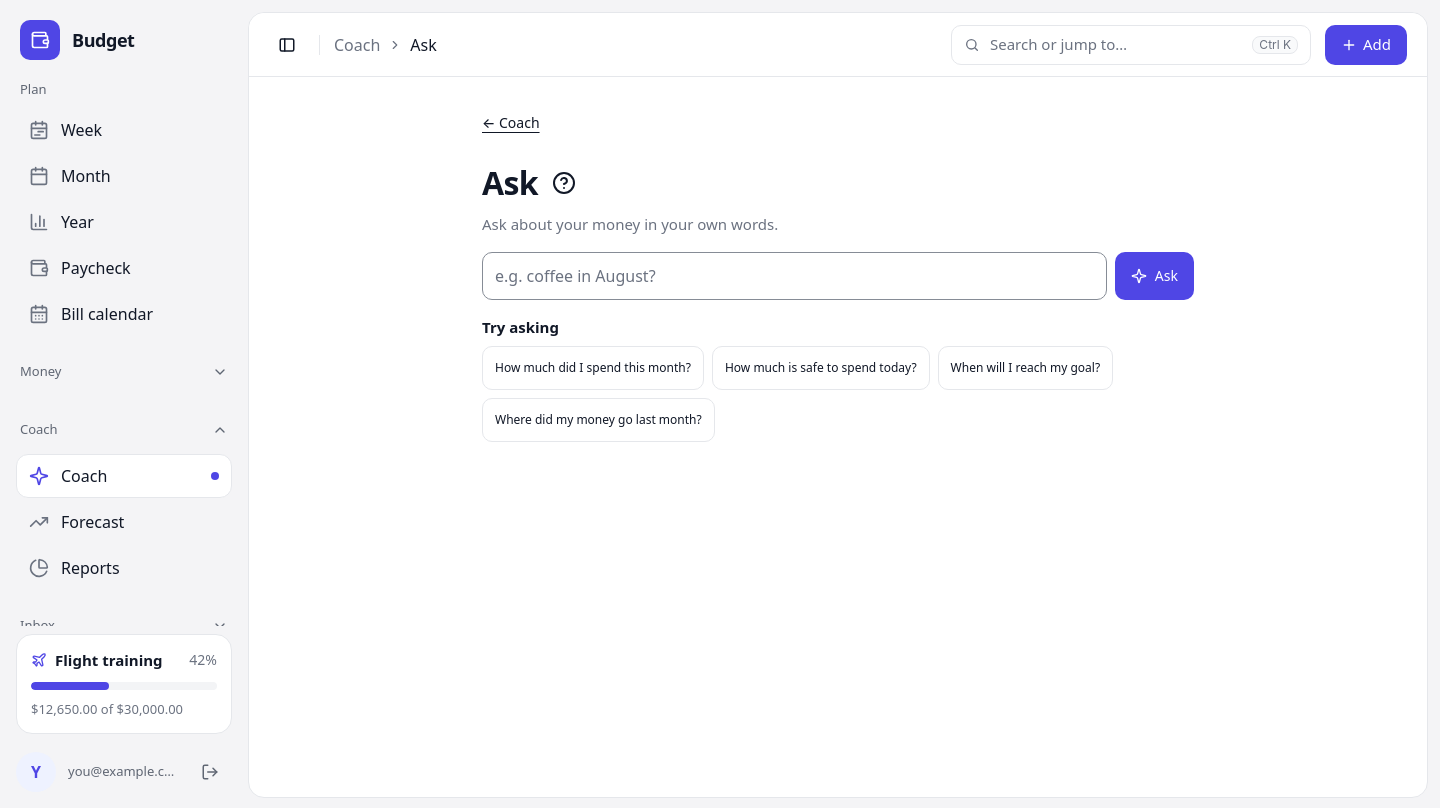
Scenario: the last five questions › still answers when the browser refuses to keep them
This screenshot has width=1440, height=808.
In the field named "Your question": (794, 276) [482,252,1107,300], type "How much did I spend on dining out in August?"
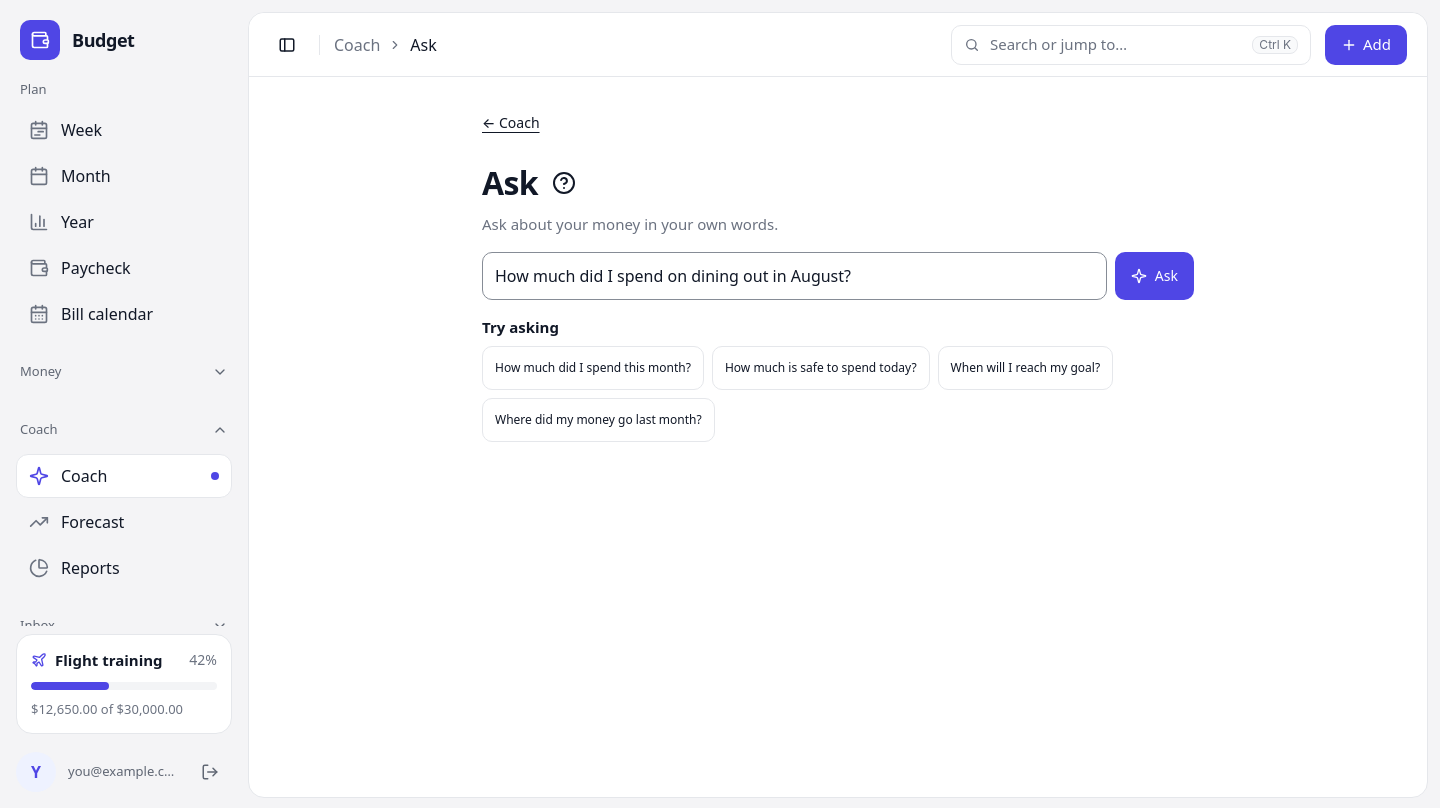
Click the button "Ask": (1154, 276) [1115,252,1194,300]
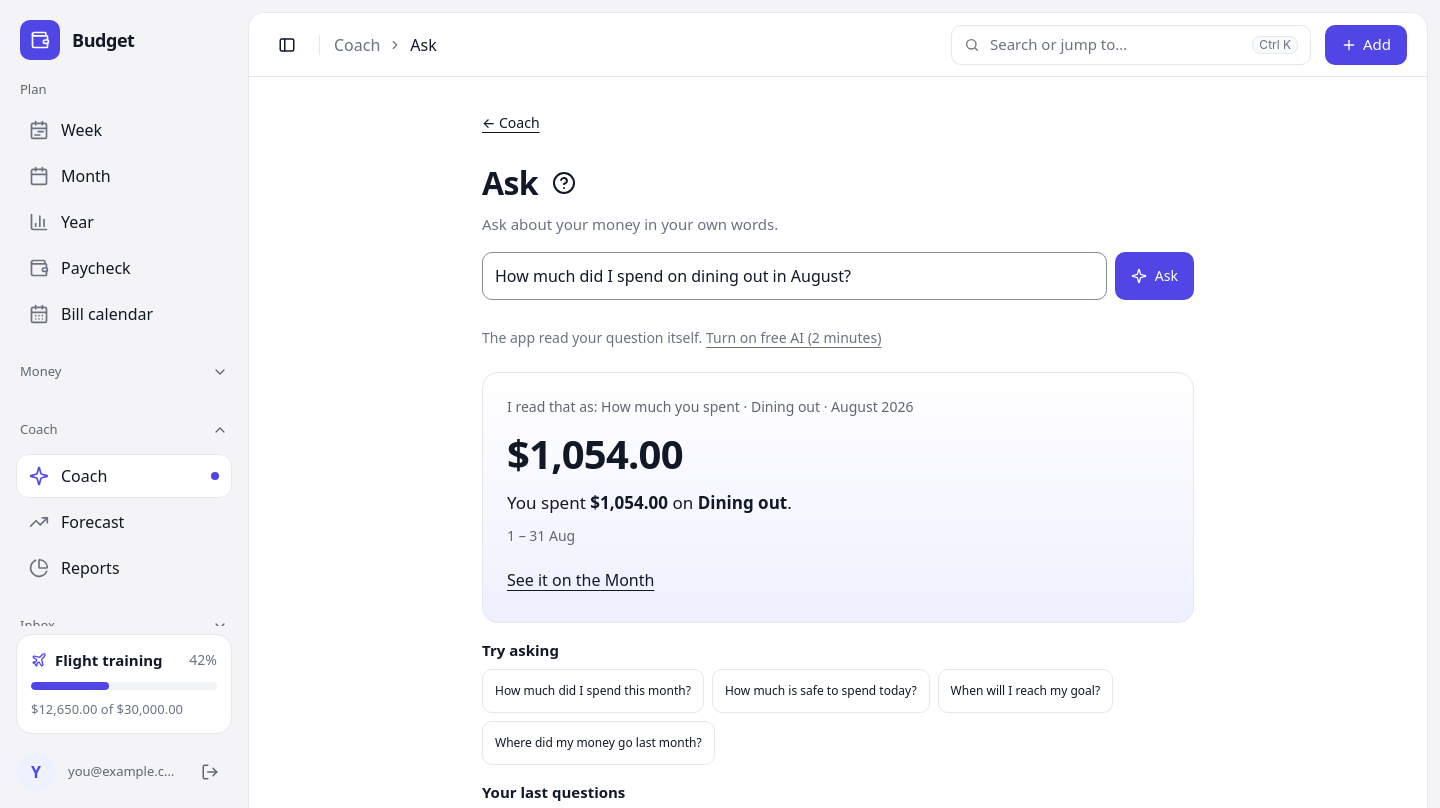
Result: the element showing "You spent $1,054.00 on Dining out." is shown at [507,490,792,514]
